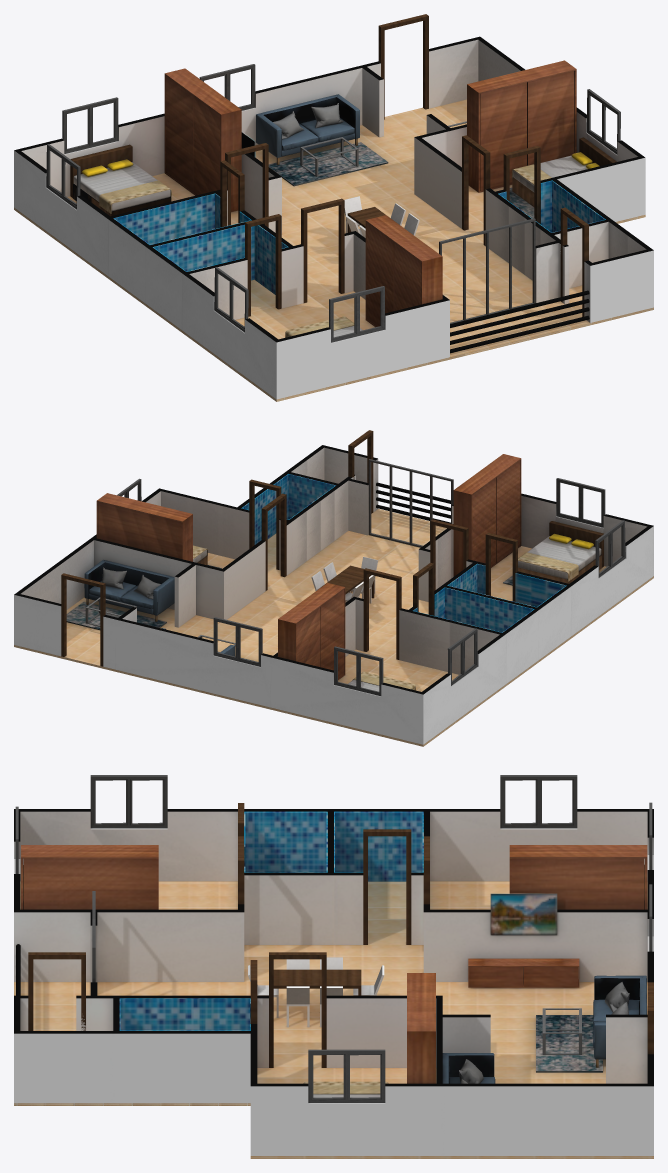
File: 3bhk.glb
3 renders of one model, top to bottom at view 1: azimuth 30°, elevation 25°; view 2: azimuth 150°, elevation 25°; view 3: azimuth 270°, elevation 25°, orthographic. The views are drawn at different scales.
Parts seen in each view (by area): view 1: Object002_Object002_mtl_0, Object003_Object003_mtl_0, Object001_Object001_mtl_0; view 2: Object002_Object002_mtl_0, Object003_Object003_mtl_0, Object001_Object001_mtl_0; view 3: Object002_Object002_mtl_0, Object003_Object003_mtl_0, Object001_Object001_mtl_0.
Part boxes in pixels (x1,y1,x2,y2): Object002_Object002_mtl_0: (14,14,653,399); Object003_Object003_mtl_0: (14,60,616,401); Object001_Object001_mtl_0: (46,64,653,401); Object002_Object002_mtl_0: (14,445,653,744); Object003_Object003_mtl_0: (14,430,653,746); Object001_Object001_mtl_0: (117,478,625,695); Object002_Object002_mtl_0: (14,809,653,1155); Object003_Object003_mtl_0: (14,803,653,1158); Object001_Object001_mtl_0: (14,775,652,1105).
Bounding box in the file's own units: 10.41 × 2.18 × 10.16.
Materials: 3 (3 with a texture image).
